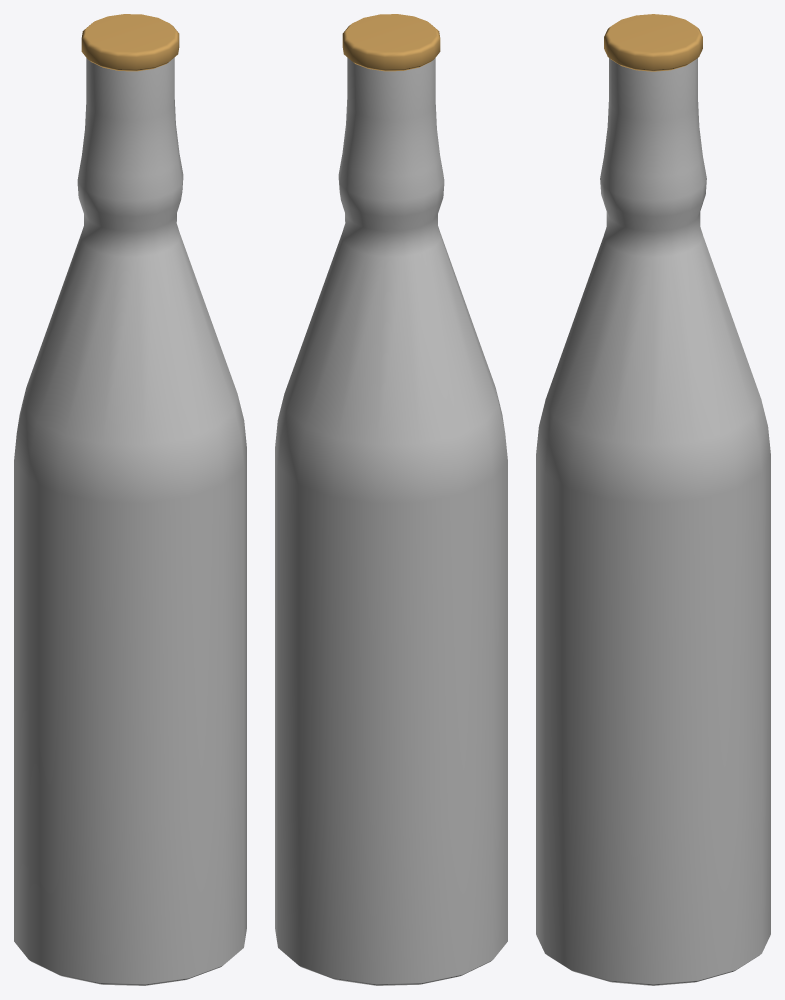
File: Beer bottle.FBX
3 views of the same model, side by side, from view 1: azimuth 30°, elevation 25°; view 2: azimuth 150°, elevation 25°; view 3: azimuth 270°, elevation 25° (orthographic).
Visible parts, largest first — view 1: Beer bottle; view 2: Beer bottle; view 3: Beer bottle.
Part boxes in pixels (x1,y1,x2,y2): Beer bottle: [14, 14, 246, 985]; Beer bottle: [275, 14, 507, 985]; Beer bottle: [536, 14, 770, 985].
Size of the model in its own units: 6.62 by 28.21 by 6.62.
